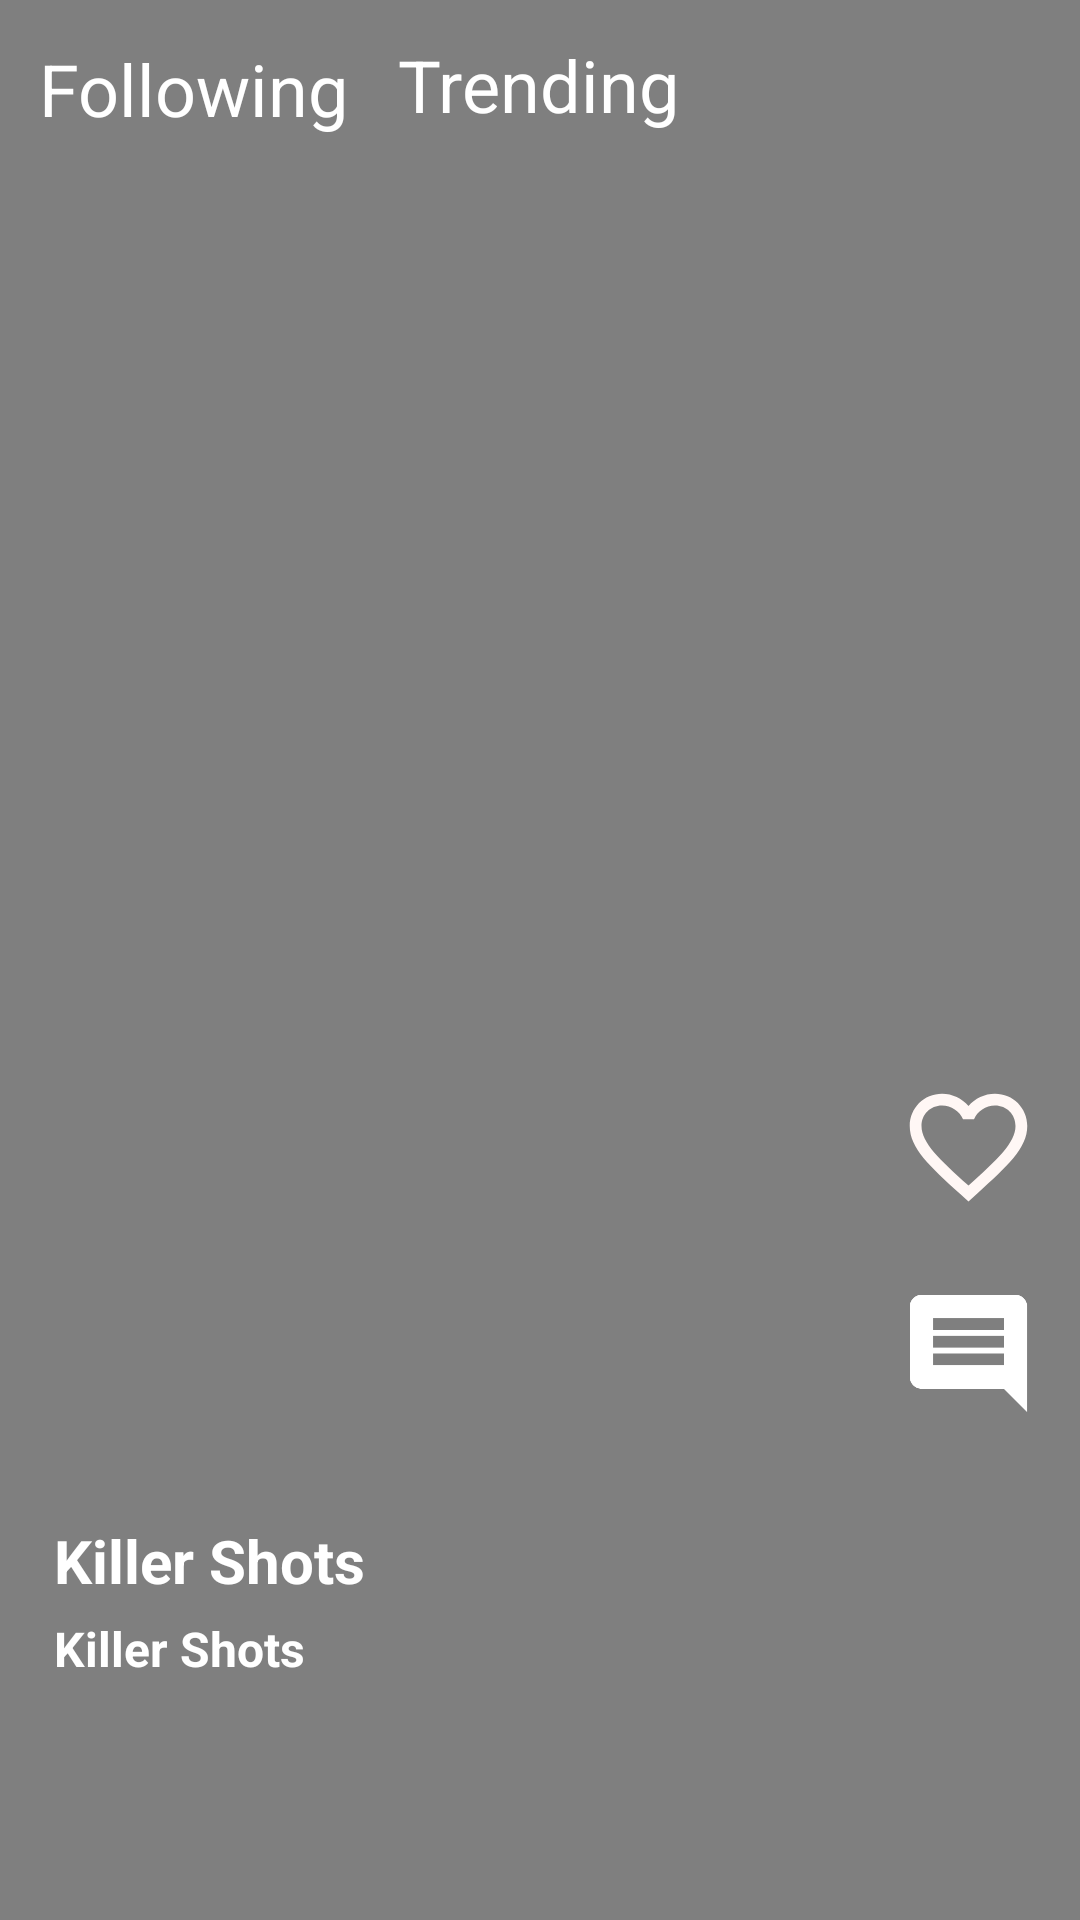

Named icons in this screenshot (1080px×1920px) and their bounding boxes, Rect(x1, y1, x2, y2):
comment: Rect(910, 1295, 1027, 1412)
favorite: Rect(909, 1093, 1028, 1202)
